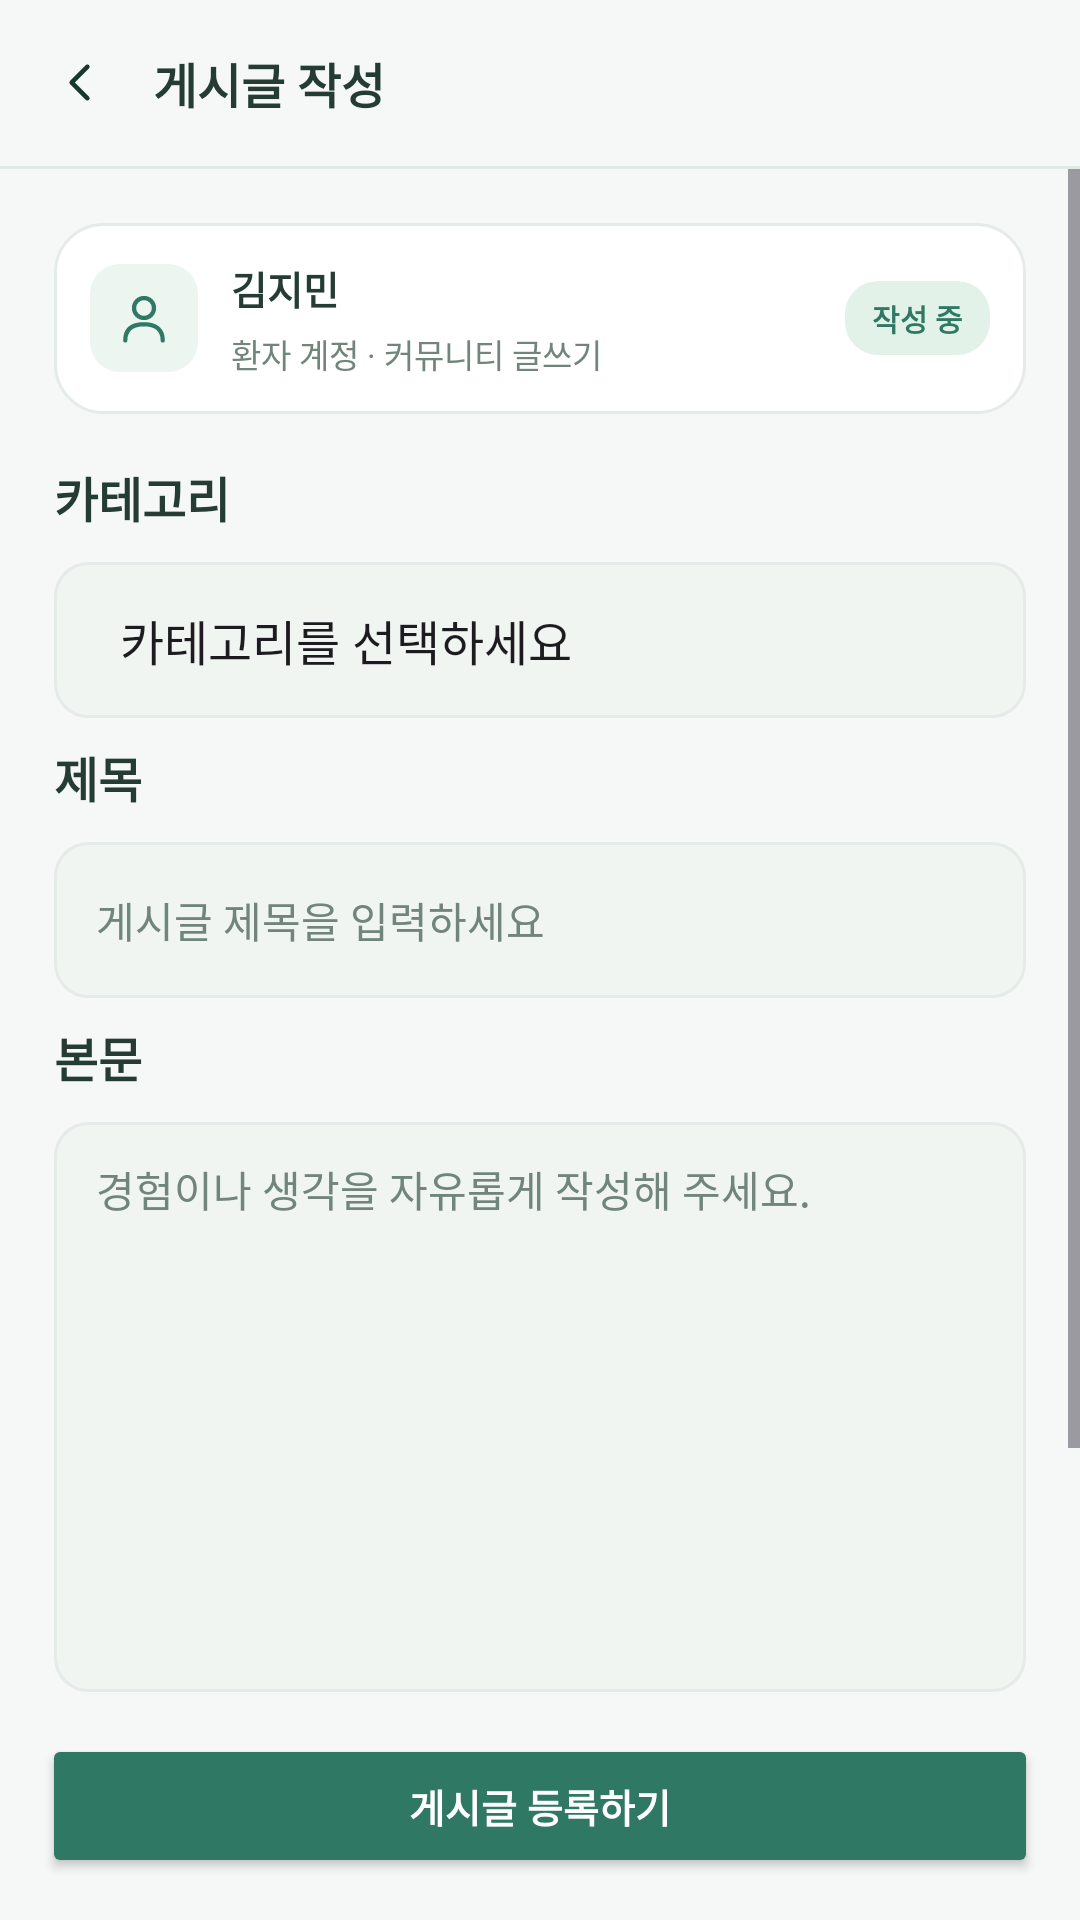

Screen size 1080x1920. Icon name, then its box in pixels as (x1, y1, x2, y2):
back: (69, 64, 90, 101)
user: (123, 296, 165, 343)
